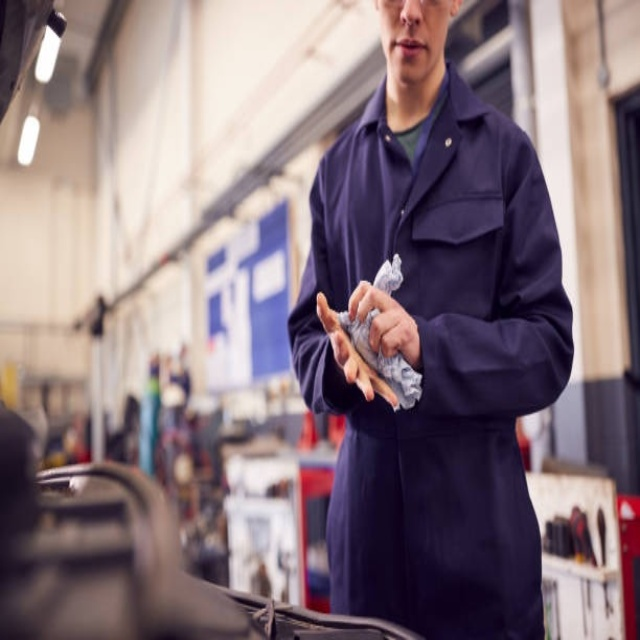Sin_guantes: (317, 290, 402, 410)
Sin_mascara: (386, 30, 432, 83)
